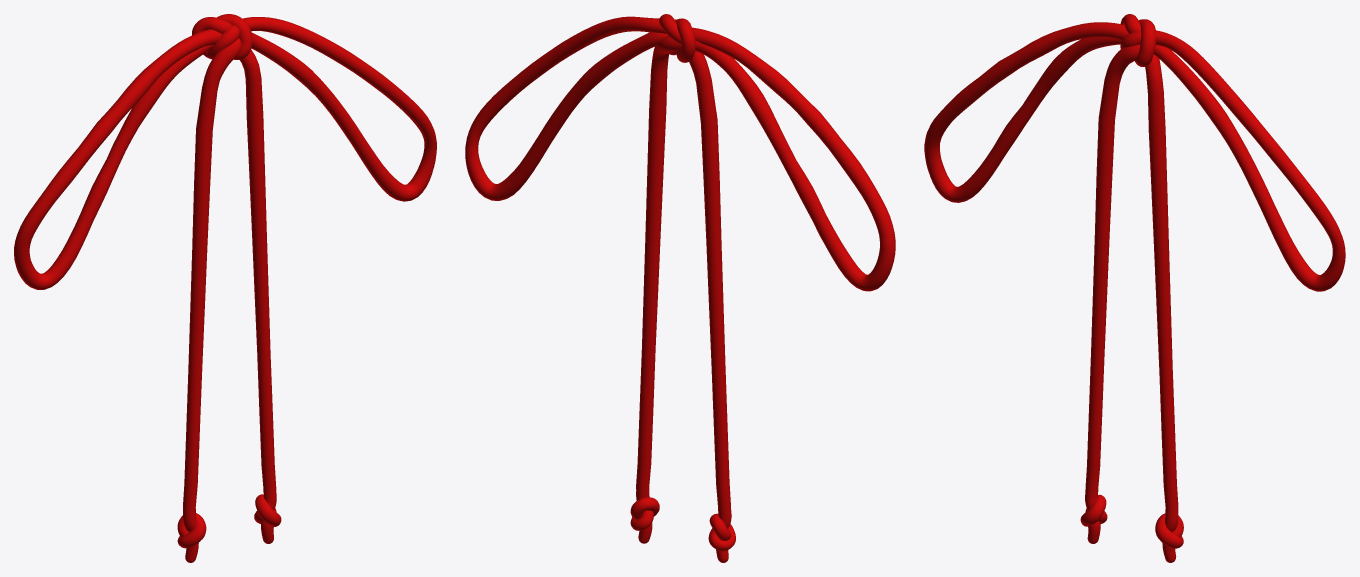
The model's file is BowKnot.obj.
The picture shows the model from 3 angles, left to right: view 1: azimuth 30°, elevation 25°; view 2: azimuth 150°, elevation 25°; view 3: azimuth 330°, elevation 25°; orthographic projection. The views are drawn at different scales.
Parts seen in each view (by area): view 1: KnotBowL, KnotBowR, KnotStringL1, KnotStringL2, KnotStringR1, KnotStringR2, KnotCenter; view 2: KnotBowL, KnotBowR, KnotStringL1, KnotStringR1, KnotStringL2, KnotStringR2, KnotCenter; view 3: KnotBowR, KnotBowL, KnotStringR1, KnotStringL1, KnotStringR2, KnotStringL2, KnotCenter.
Part boxes in pixels (<box>): KnotBowL: <box>14,32,206,289</box>; KnotBowR: <box>251,17,436,201</box>; KnotStringL1: <box>190,51,230,310</box>; KnotStringL2: <box>177,309,206,562</box>; KnotStringR1: <box>240,49,268,296</box>; KnotStringR2: <box>254,293,281,543</box>; KnotCenter: <box>192,14,255,61</box>; KnotBowL: <box>699,30,895,291</box>; KnotBowR: <box>465,16,653,200</box>; KnotStringL1: <box>689,51,723,307</box>; KnotStringR1: <box>643,46,668,292</box>; KnotStringL2: <box>708,303,735,562</box>; KnotStringR2: <box>630,289,659,543</box>; KnotCenter: <box>643,14,703,62</box>; KnotBowR: <box>1159,34,1345,291</box>; KnotBowL: <box>924,22,1113,202</box>; KnotStringR1: <box>1145,54,1170,311</box>; KnotStringL1: <box>1093,49,1129,297</box>; KnotStringR2: <box>1155,310,1183,562</box>; KnotStringL2: <box>1080,294,1107,543</box>; KnotCenter: <box>1110,14,1169,66</box>.
Bounding box in the file's own units: 0.0305 × 0.0368 × 0.00301.
